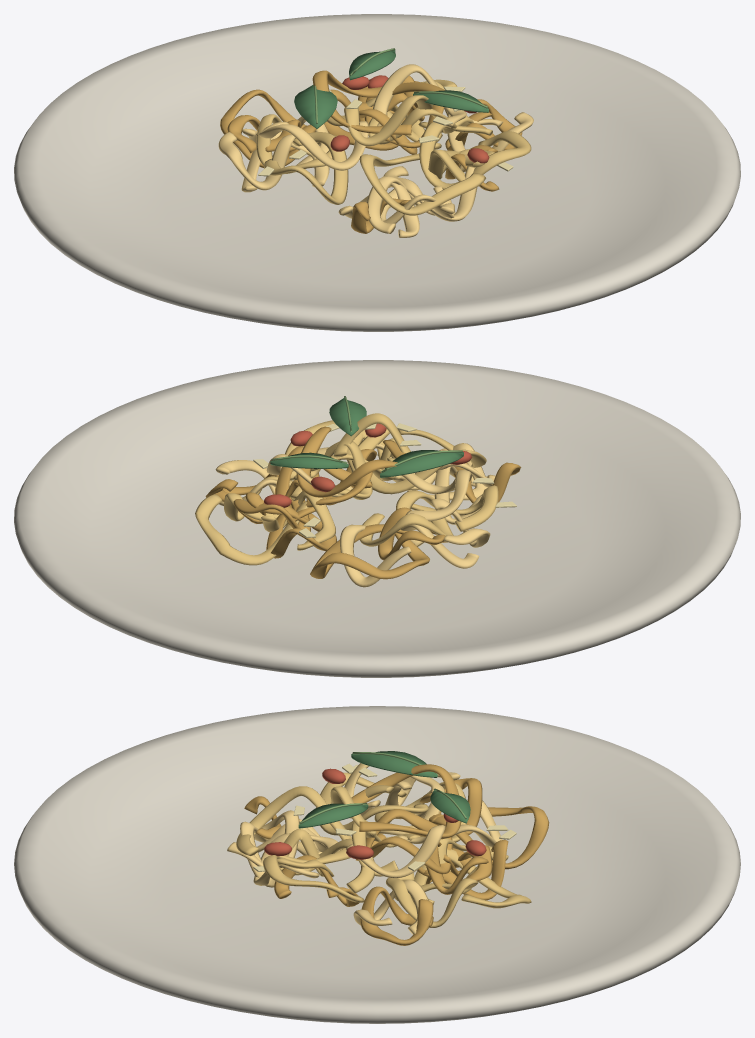
Rendered from meal_herb_pasta_plate.glb.
The picture shows the model from 3 angles, top to bottom: view 1: azimuth 30°, elevation 25°; view 2: azimuth 150°, elevation 25°; view 3: azimuth 270°, elevation 25°; orthographic projection.
Parts seen in each view (by area): view 1: DishGeometry, FoodGeometry; view 2: DishGeometry, FoodGeometry; view 3: DishGeometry, FoodGeometry.
Boxes of the visible parts, x1=… form: DishGeometry: x1=14, y1=14, x2=740, y2=331; FoodGeometry: x1=218, y1=48, x2=533, y2=237; DishGeometry: x1=14, y1=360, x2=740, y2=677; FoodGeometry: x1=195, y1=396, x2=521, y2=587; DishGeometry: x1=14, y1=706, x2=740, y2=1023; FoodGeometry: x1=227, y1=751, x2=549, y2=945.
Size of the model in its own units: 0.3 by 0.0618 by 0.3.
